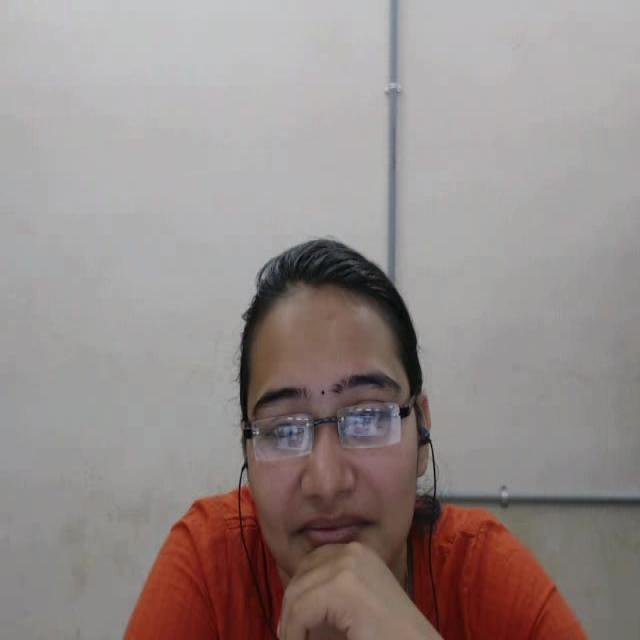Bored: (193, 210, 462, 640)
